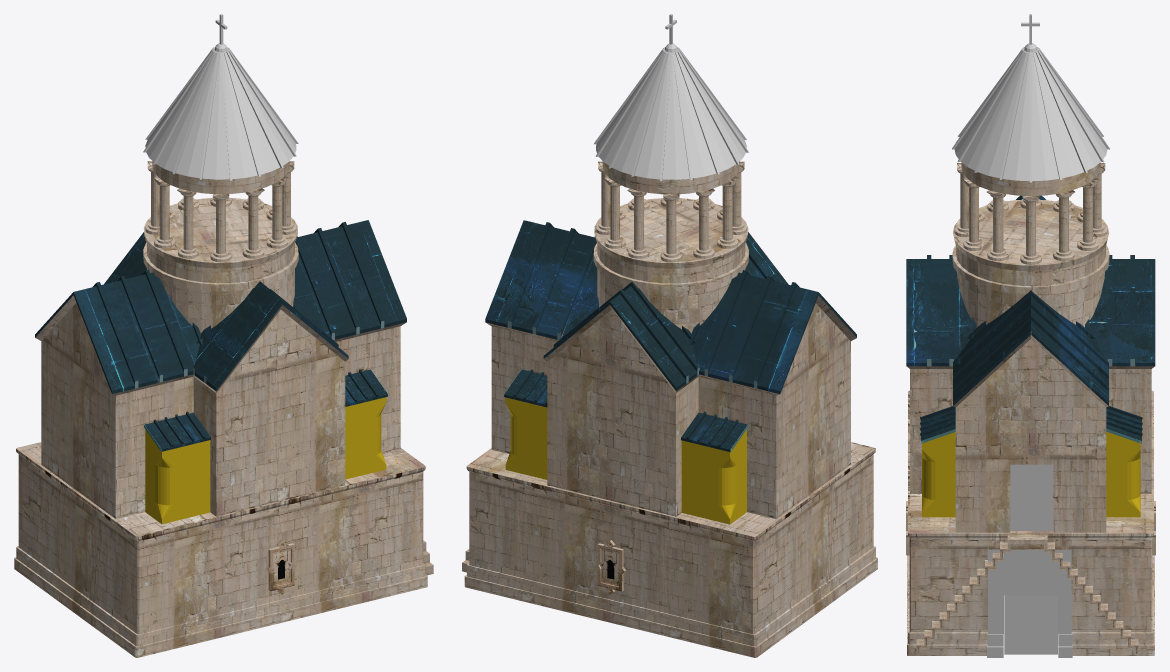
File: Noravank01.fbx
3 views of the same model, side by side, from view 1: azimuth 30°, elevation 25°; view 2: azimuth 150°, elevation 25°; view 3: azimuth 270°, elevation 25° (orthographic).
Visible parts, largest first — view 1: Cube.004; view 2: Cube.004; view 3: Cube.004.
Part boxes in pixels (x1=…): Cube.004: x1=14, y1=14, x2=433, y2=657; Cube.004: x1=462, y1=14, x2=877, y2=657; Cube.004: x1=906, y1=14, x2=1155, y2=657.
Bounding box in the file's own units: 2337 × 4146 × 1647.
